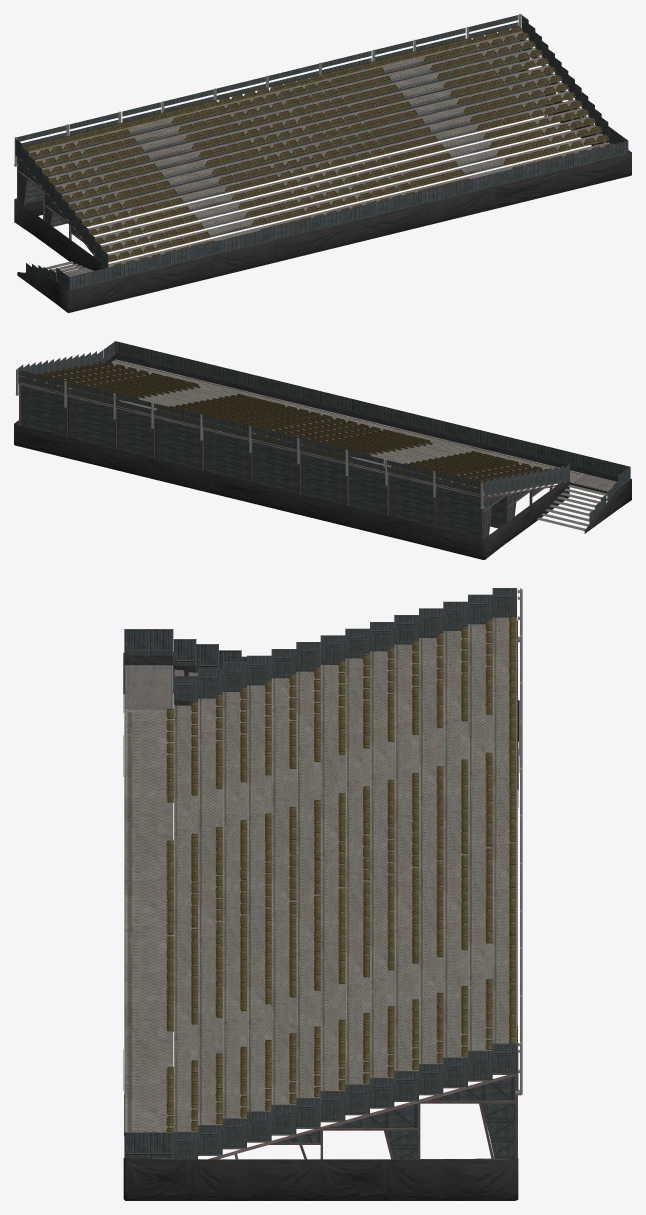
The model's file is tribunaest.obj.
3 views of the same model, one above another, from view 1: azimuth 30°, elevation 25°; view 2: azimuth 150°, elevation 25°; view 3: azimuth 270°, elevation 25° (orthographic). The views are drawn at different scales.
Visible parts, largest first — view 1: Tribuna_Est; view 2: Tribuna_Est; view 3: Tribuna_Est.
Part boxes in pixels (bbox=[...]): Tribuna_Est: bbox=[14, 14, 631, 312]; Tribuna_Est: bbox=[14, 341, 631, 559]; Tribuna_Est: bbox=[123, 588, 522, 1200].
Bounding box in the file's own units: 47.34 × 6.7 × 15.73.
3 materials, 3 textured.
